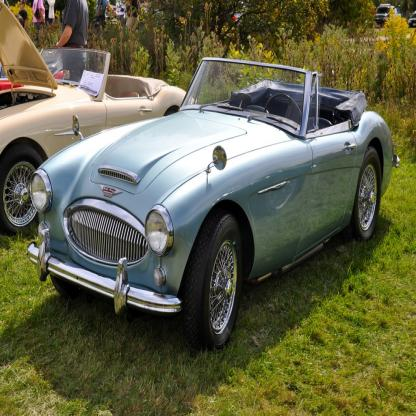Car: (28, 57, 403, 355), (1, 1, 197, 236)
